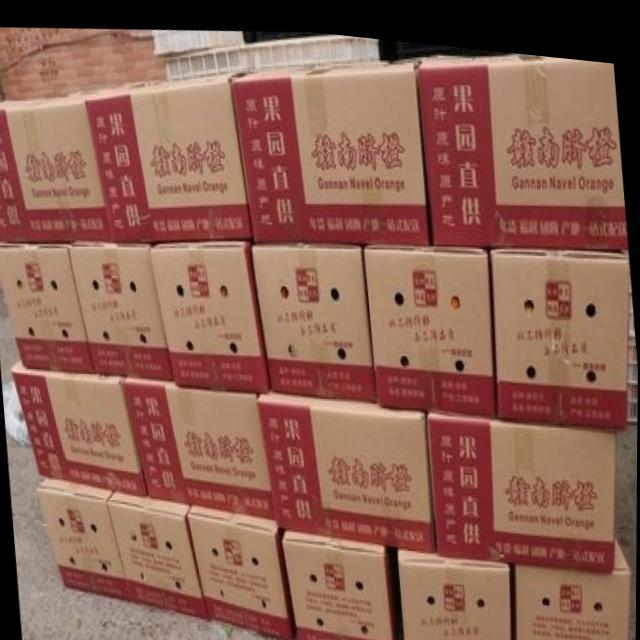box: (417, 42, 627, 235), (231, 50, 430, 237), (426, 401, 616, 560), (85, 66, 253, 240), (257, 384, 437, 543), (490, 236, 628, 416), (363, 236, 496, 405), (123, 373, 275, 512), (251, 237, 377, 393), (149, 233, 270, 387), (10, 359, 147, 493), (0, 91, 112, 241), (188, 500, 296, 635), (69, 240, 173, 376), (515, 521, 633, 640), (282, 523, 395, 640), (0, 239, 94, 370), (108, 489, 207, 613), (36, 478, 134, 598), (398, 540, 512, 640)
